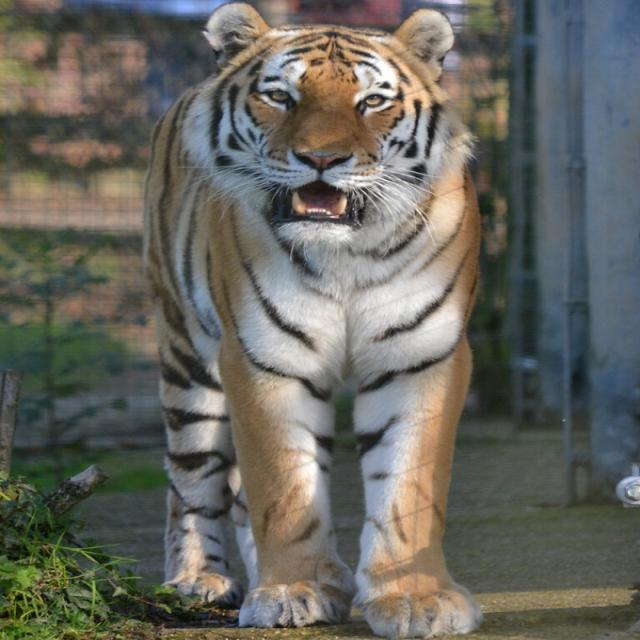Tiger: (142, 4, 488, 634)
